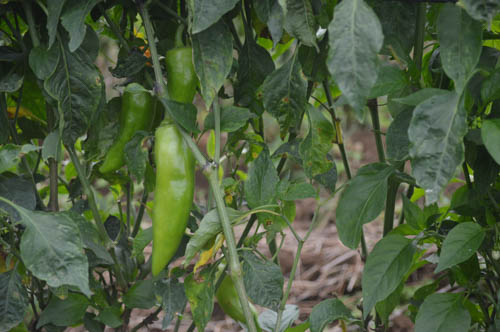ChiliPepper: (153, 127, 194, 280), (95, 82, 151, 183), (165, 48, 197, 121), (213, 272, 259, 322)
